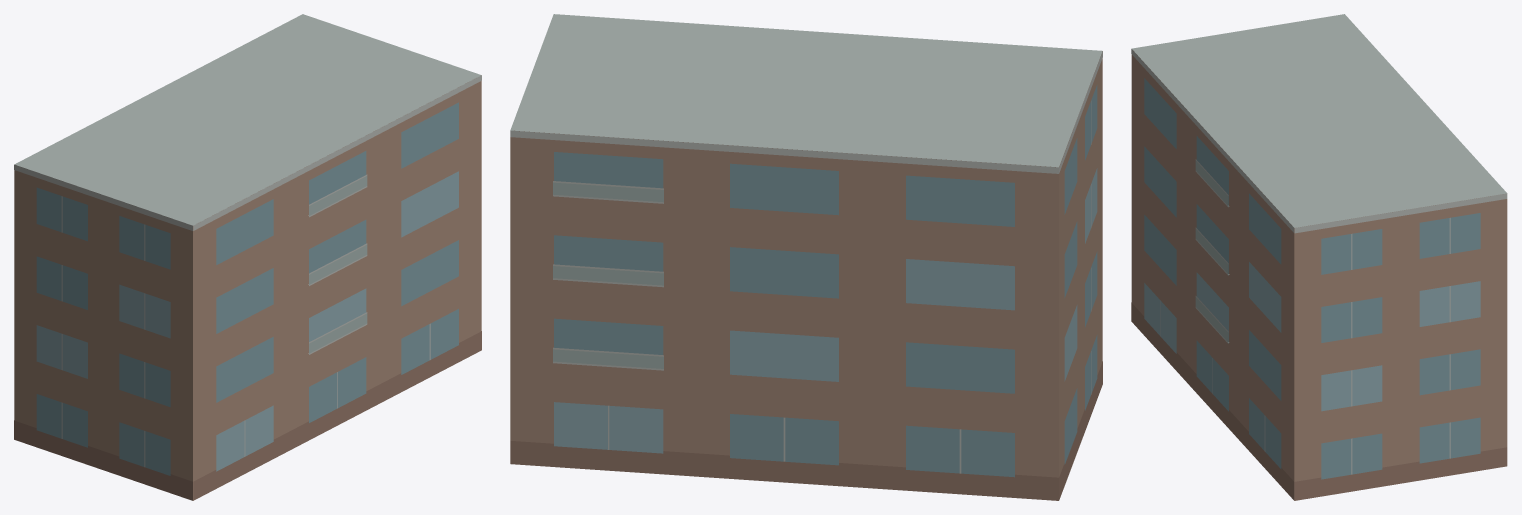
The model's file is residential-4bbf83ca-3e6b-450e-a198-007206f6b655.glb.
The picture shows the model from 3 angles, left to right: view 1: azimuth 30°, elevation 25°; view 2: azimuth 150°, elevation 25°; view 3: azimuth 270°, elevation 25°; orthographic projection. The views are drawn at different scales.
Parts seen in each view (by area): view 1: residential-4bbf83ca-3e6b-450e-a198-007206f6b655.tmp; view 2: residential-4bbf83ca-3e6b-450e-a198-007206f6b655.tmp; view 3: residential-4bbf83ca-3e6b-450e-a198-007206f6b655.tmp.
Boxes of the visible parts, x1,y1,x2,y2 form: residential-4bbf83ca-3e6b-450e-a198-007206f6b655.tmp: (14, 14, 481, 500); residential-4bbf83ca-3e6b-450e-a198-007206f6b655.tmp: (510, 14, 1102, 500); residential-4bbf83ca-3e6b-450e-a198-007206f6b655.tmp: (1131, 14, 1507, 500).
Bounding box in the file's own units: 20.53 × 12.2 × 15.24.
